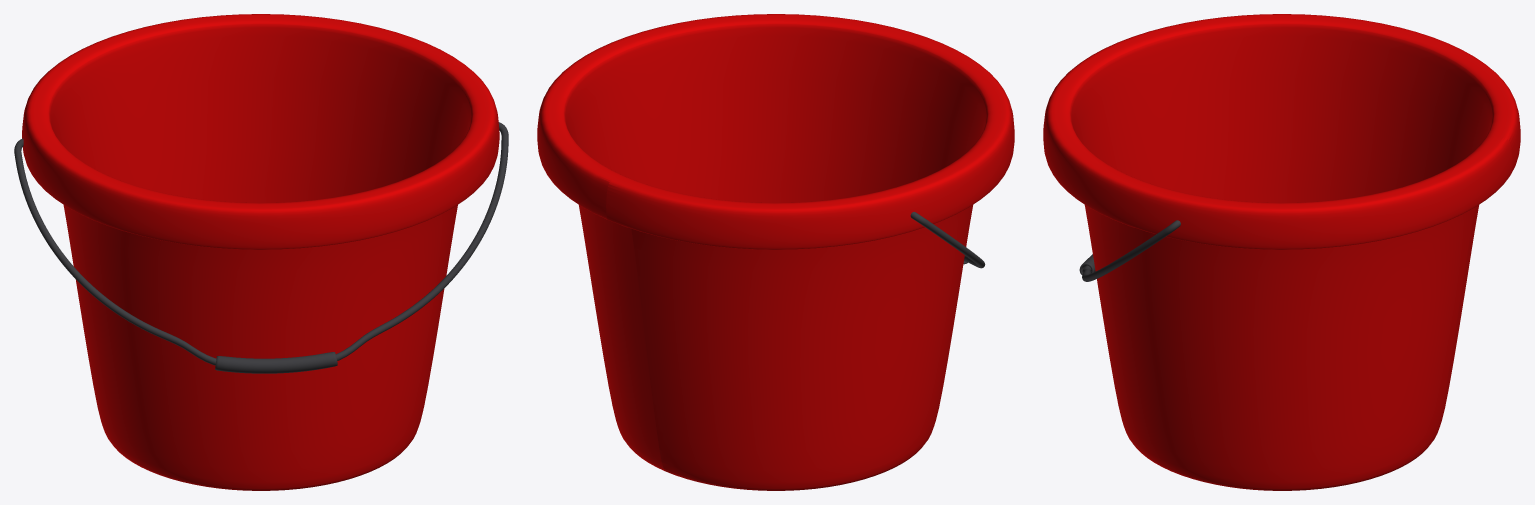
The model's file is bucket_lowpoly.glb.
3 renders of one model, left to right at view 1: azimuth 30°, elevation 25°; view 2: azimuth 150°, elevation 25°; view 3: azimuth 270°, elevation 25°, orthographic.
Visible parts, largest first — view 1: (null)_2, (null)_1; view 2: (null)_2, (null)_1; view 3: (null)_2, (null)_1.
Boxes of the visible parts, bbox=[...] form: (null)_2: bbox=[22, 14, 499, 490]; (null)_1: bbox=[14, 122, 508, 373]; (null)_2: bbox=[537, 14, 1014, 490]; (null)_1: bbox=[910, 212, 985, 268]; (null)_2: bbox=[1043, 14, 1520, 490]; (null)_1: bbox=[1079, 220, 1180, 281].
Bounding box in the file's own units: 97.03 × 70.76 × 97.03.
